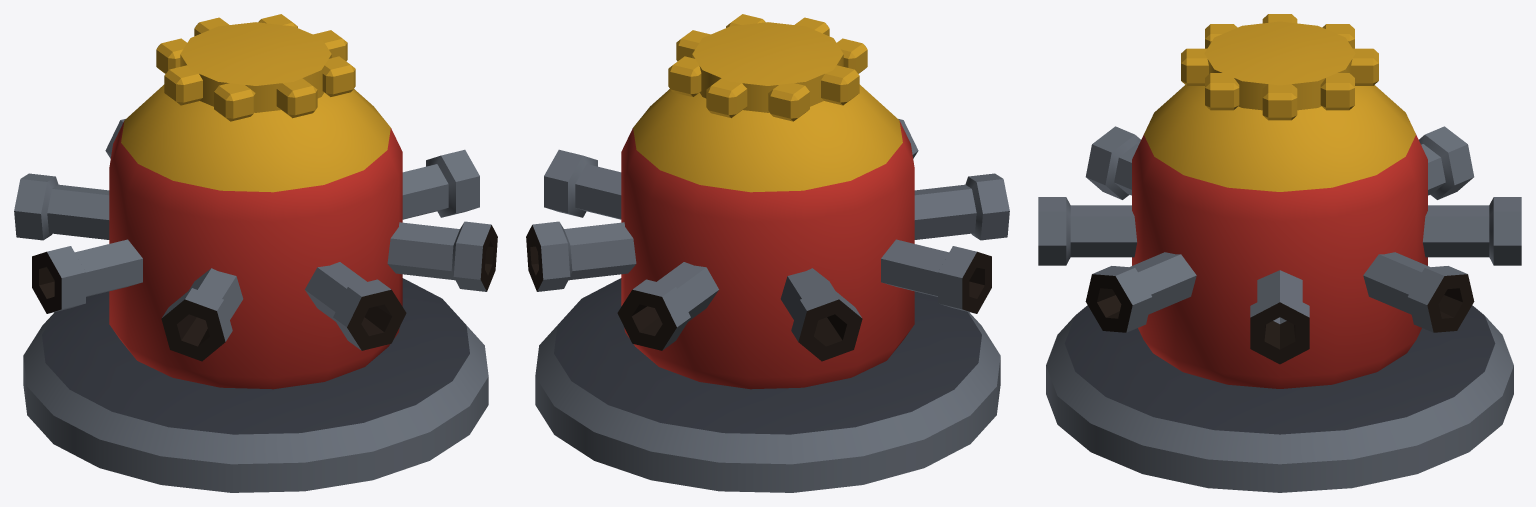
The picture shows the model from 3 angles, left to right: view 1: azimuth 30°, elevation 25°; view 2: azimuth 150°, elevation 25°; view 3: azimuth 270°, elevation 25°; orthographic projection.
Parts seen in each view (by area): view 1: tachinha_1_torreta, tachinha_0_base; view 2: tachinha_1_torreta, tachinha_0_base; view 3: tachinha_1_torreta, tachinha_0_base.
Boxes of the visible parts, <box> form: tachinha_1_torreta: <box>14,14,497,389</box>; tachinha_0_base: <box>23,278,488,492</box>; tachinha_1_torreta: <box>526,14,1009,389</box>; tachinha_0_base: <box>535,278,1000,492</box>; tachinha_1_torreta: <box>1038,14,1521,388</box>; tachinha_0_base: <box>1046,305,1513,492</box>.
Bounding box in the file's own units: 0.702 × 0.555 × 0.702.
